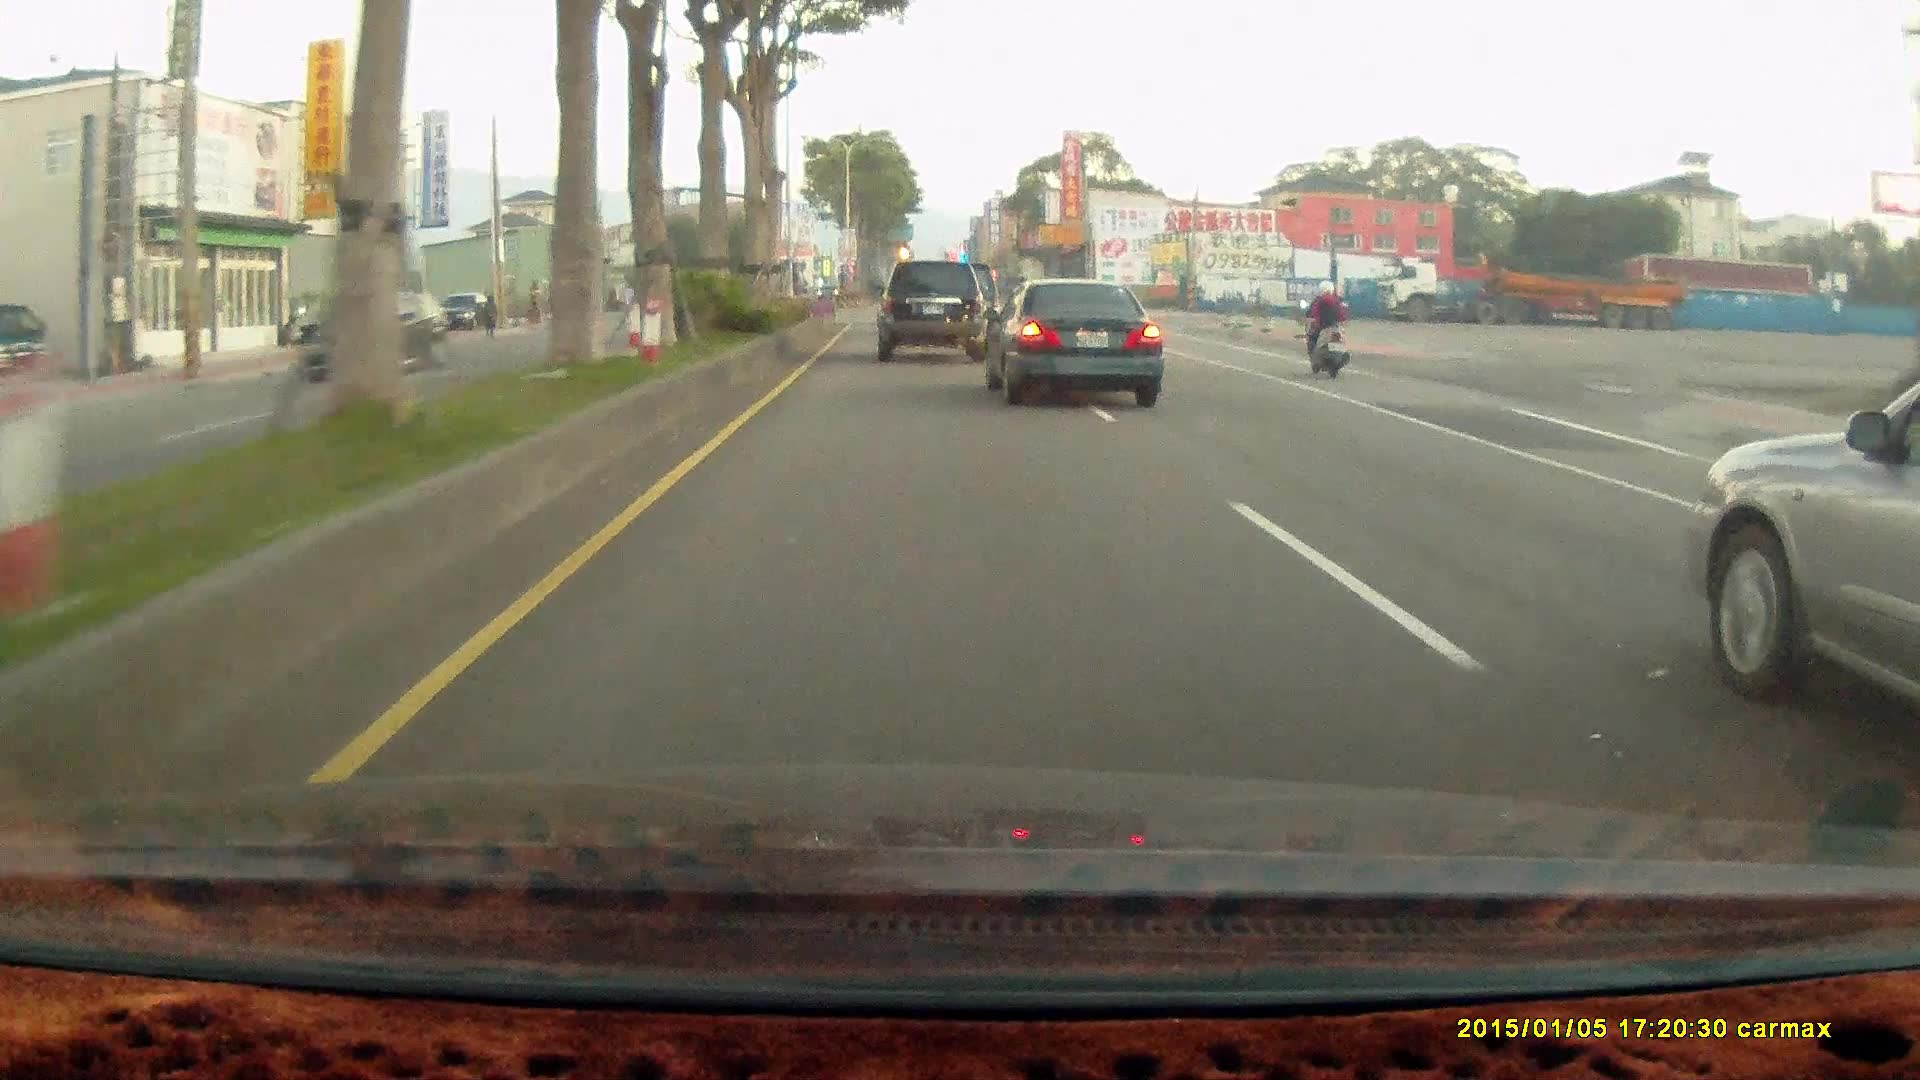rider: (1291, 270, 1360, 389), (1296, 282, 1348, 379)
vehicle: (1685, 378, 1920, 724), (979, 276, 1162, 405), (1374, 258, 1683, 331), (991, 278, 1168, 405), (305, 288, 447, 380), (875, 258, 994, 365), (875, 260, 988, 363), (1, 306, 57, 385), (1, 305, 52, 384), (430, 292, 493, 332)
